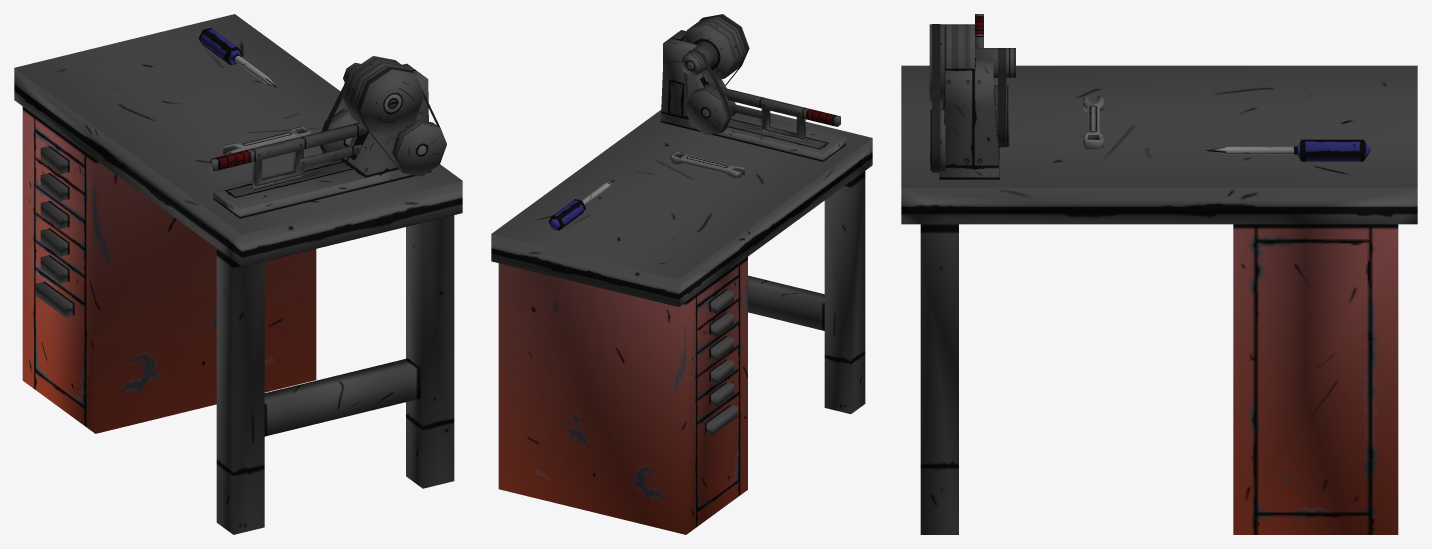
File: mod_env_industrial_modStation01.fbx
3 views of the same model, side by side, from view 1: azimuth 30°, elevation 25°; view 2: azimuth 150°, elevation 25°; view 3: azimuth 270°, elevation 25° (orthographic). The views are drawn at different scales.
Parts seen in each view (by area): view 1: mod_prop_mod_station01; view 2: mod_prop_mod_station01; view 3: mod_prop_mod_station01.
Boxes of the visible parts, box(x1,y1,x2,y2) form: mod_prop_mod_station01: box(14, 14, 462, 534); mod_prop_mod_station01: box(491, 14, 872, 534); mod_prop_mod_station01: box(901, 14, 1417, 534).
Bounding box in the file's own units: 82.73 × 145 × 142.
